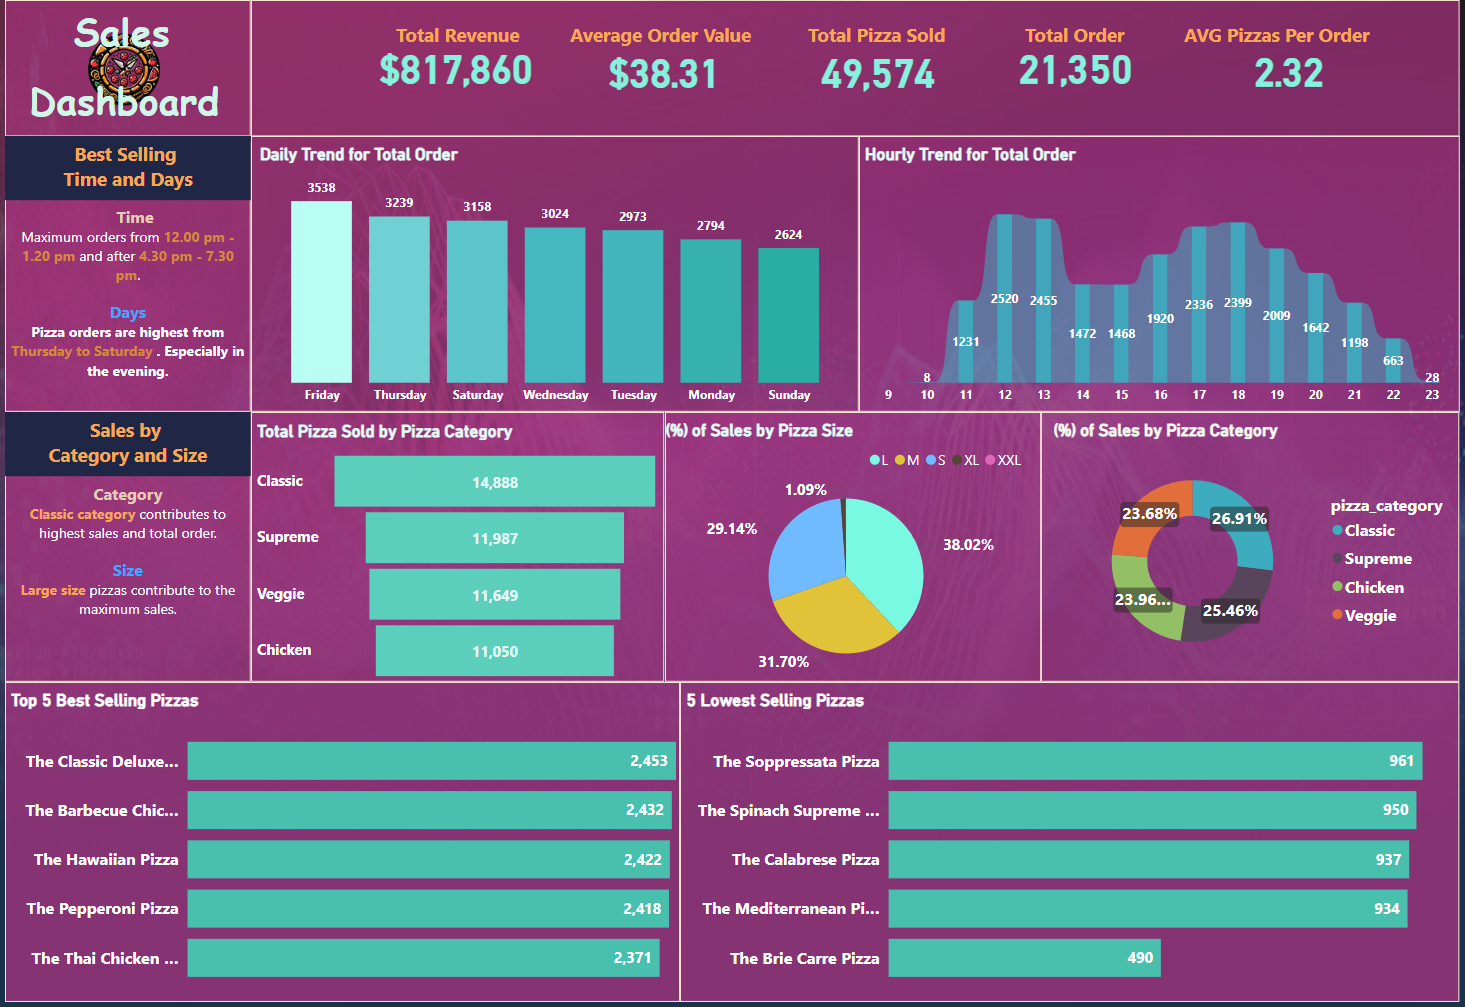

The page's visual inventory and layout, read from the dashboard file:
{"tool":"powerbi","page":{"name":"Dashboard","canvas":[1450,1005],"ordinal":1},"visuals":[{"type":"shape","box":[245,0,1205,136],"z":0},{"type":"textbox","box":[384.4,16.8,144.9,46.7],"z":1000},{"type":"card","fields":{"Values":["Sum(pizza_sales.total_price)"]},"box":[303,35,293,61],"z":2000},{"type":"textbox","box":[1012,17,126,41],"z":3000},{"type":"textbox","box":[795.7,16.8,179,38.9],"z":4000},{"type":"textbox","box":[557.9,16.8,200.4,38.9],"z":5000},{"type":"card","fields":{"Values":["Sum(pizza_sales.quantity)"]},"box":[785,41.6,171.4,55.3],"z":6000},{"type":"textbox","box":[1170.9,16.8,219.8,44.7],"z":7000},{"type":"card","fields":{"Values":["pizza_sales.Average Order"]},"box":[563.9,43.8,186.1,51.9],"z":8000},{"type":"card","fields":{"Values":["Count(pizza_sales.order_id)"]},"box":[934,40,266,52],"z":9000},{"type":"card","fields":{"Values":["pizza_sales.Avg pizza perOrder"]},"box":[1236.3,41.3,87.4,56],"z":10000},{"type":"columnChart","title":"Daily Trend for Total Order","fields":{"Y":["Count(pizza_sales.order_id)"],"Category":["pizza_sales.order_day"]},"box":[245,136,606,275],"z":11000},{"type":"ribbonChart","title":"Hourly Trend for Total Order","fields":{"Category":["pizza_sales.order_hour"],"Y":["Count(pizza_sales.order_id)"]},"box":[851,136,599,275],"z":12000},{"type":"donutChart","title":"Sales by Pizza Category","fields":{"Y":["Avg(pizza_sales.total_price)"],"Category":["pizza_sales.pizza_category"]},"box":[1033,411,417,269],"z":13000},{"type":"pieChart","title":"Sales by Pizza Size","fields":{"Y":["Sum(pizza_sales.order_id)"],"Category":["pizza_sales.pizza_size"]},"box":[673,411,360,269],"z":14000},{"type":"shape","box":[0,0,245,136],"z":15000},{"type":"funnel","title":"(%) of Sales by Pizza Category","fields":{"Category":["pizza_sales.pizza_category"],"Y":["Sum(pizza_sales.quantity)"]},"box":[245,411,428,269],"z":16000},{"type":"clusteredBarChart","title":"Top 5 Best Sellers by Total Pizza Sold","fields":{"Category":["pizza_sales.pizza_name"],"Y":["Sum(pizza_sales.quantity)"]},"box":[0,680,673,319],"z":17000},{"type":"image","box":[0,14,108,104],"z":18000},{"type":"textbox","box":[108,5,124,136],"z":19000},{"type":"shape","box":[0,411,245,269],"z":20000},{"type":"shape","box":[0,141,245,270],"z":21000},{"type":"textbox","box":[0,136,245,64],"z":22000},{"type":"textbox","box":[0,411,245,64],"z":23000},{"type":"textbox","box":[0,200,245,211],"z":24000},{"type":"textbox","box":[0,477,245,171],"z":25000},{"type":"clusteredBarChart","fields":{"Category":["pizza_sales.pizza_name"],"Y":["Sum(pizza_sales.quantity)"]},"box":[673,680,777,319],"z":25001}]}

Visuals, with their boxes in screenshot pixels (x1, y1, x2, y2), scaled from the page's 1450x1005 canvas onto the 1465x1007 screenshot:
shape: <bbox>248, 0, 1464, 136</bbox>
textbox: <bbox>388, 17, 535, 64</bbox>
card - Sum(pizza_sales.total_price): <bbox>306, 35, 602, 96</bbox>
textbox: <bbox>1022, 17, 1150, 58</bbox>
textbox: <bbox>804, 17, 985, 56</bbox>
textbox: <bbox>564, 17, 766, 56</bbox>
card - Sum(pizza_sales.quantity): <bbox>793, 42, 966, 97</bbox>
textbox: <bbox>1183, 17, 1405, 62</bbox>
card - pizza_sales.Average Order: <bbox>570, 44, 758, 96</bbox>
card - Count(pizza_sales.order_id): <bbox>944, 40, 1212, 92</bbox>
card - pizza_sales.Avg pizza perOrder: <bbox>1249, 41, 1337, 97</bbox>
"Daily Trend for Total Order" columnChart: <bbox>248, 136, 860, 412</bbox>
"Hourly Trend for Total Order" ribbonChart: <bbox>860, 136, 1464, 412</bbox>
"Sales by Pizza Category" donutChart: <bbox>1044, 412, 1464, 681</bbox>
"Sales by Pizza Size" pieChart: <bbox>680, 412, 1044, 681</bbox>
shape: <bbox>0, 0, 248, 136</bbox>
"(%) of Sales by Pizza Category" funnel: <bbox>248, 412, 680, 681</bbox>
"Top 5 Best Sellers by Total Pizza Sold" clusteredBarChart: <bbox>0, 681, 680, 1001</bbox>
image: <bbox>0, 14, 109, 118</bbox>
textbox: <bbox>109, 5, 234, 141</bbox>
shape: <bbox>0, 412, 248, 681</bbox>
shape: <bbox>0, 141, 248, 412</bbox>
textbox: <bbox>0, 136, 248, 200</bbox>
textbox: <bbox>0, 412, 248, 476</bbox>
textbox: <bbox>0, 200, 248, 412</bbox>
textbox: <bbox>0, 478, 248, 649</bbox>
clusteredBarChart - pizza_sales.pizza_name x Sum(pizza_sales.quantity): <bbox>680, 681, 1464, 1001</bbox>
